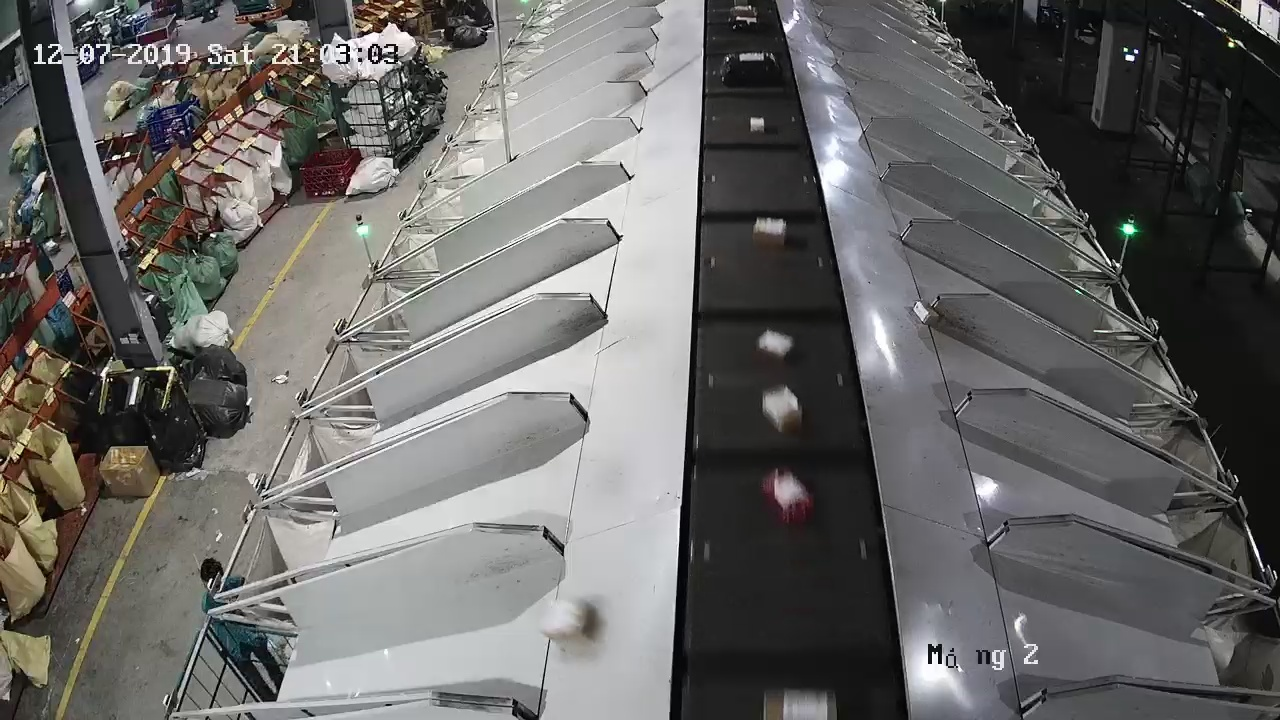parcel: (538, 597, 598, 643)
